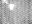person: (3, 0, 8, 4), (9, 5, 13, 9)
